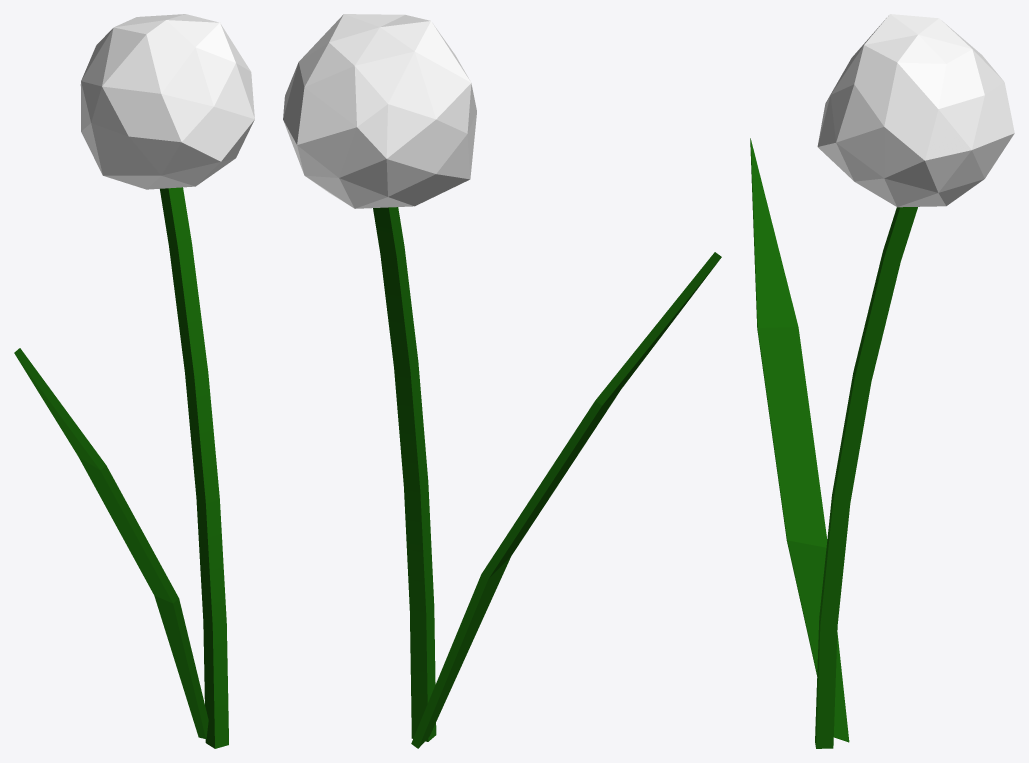
Rendered from whitewhangse.fbx.
3 views of the same model, side by side, from view 1: azimuth 30°, elevation 25°; view 2: azimuth 150°, elevation 25°; view 3: azimuth 270°, elevation 25° (orthographic). The views are drawn at different scales.
Visible parts, largest first — view 1: GeoSphere002; view 2: GeoSphere002; view 3: GeoSphere002.
Boxes of the visible parts, x1,y1,x2,y2 form: GeoSphere002: (14, 14, 254, 748); GeoSphere002: (283, 14, 721, 748); GeoSphere002: (750, 14, 1014, 748).
Size of the model in its own units: 14.2 by 29.61 by 9.97.
